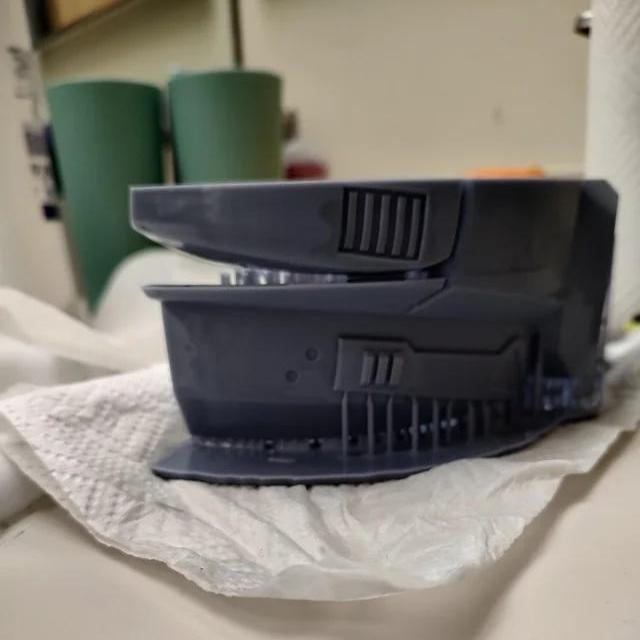Warping: (124, 218, 294, 260)
